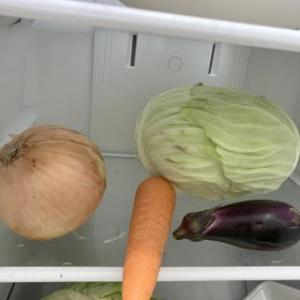cabbage: (132, 81, 300, 200)
carrot: (122, 176, 178, 300)
eggplant: (170, 199, 300, 253)
onion: (0, 123, 108, 241)
